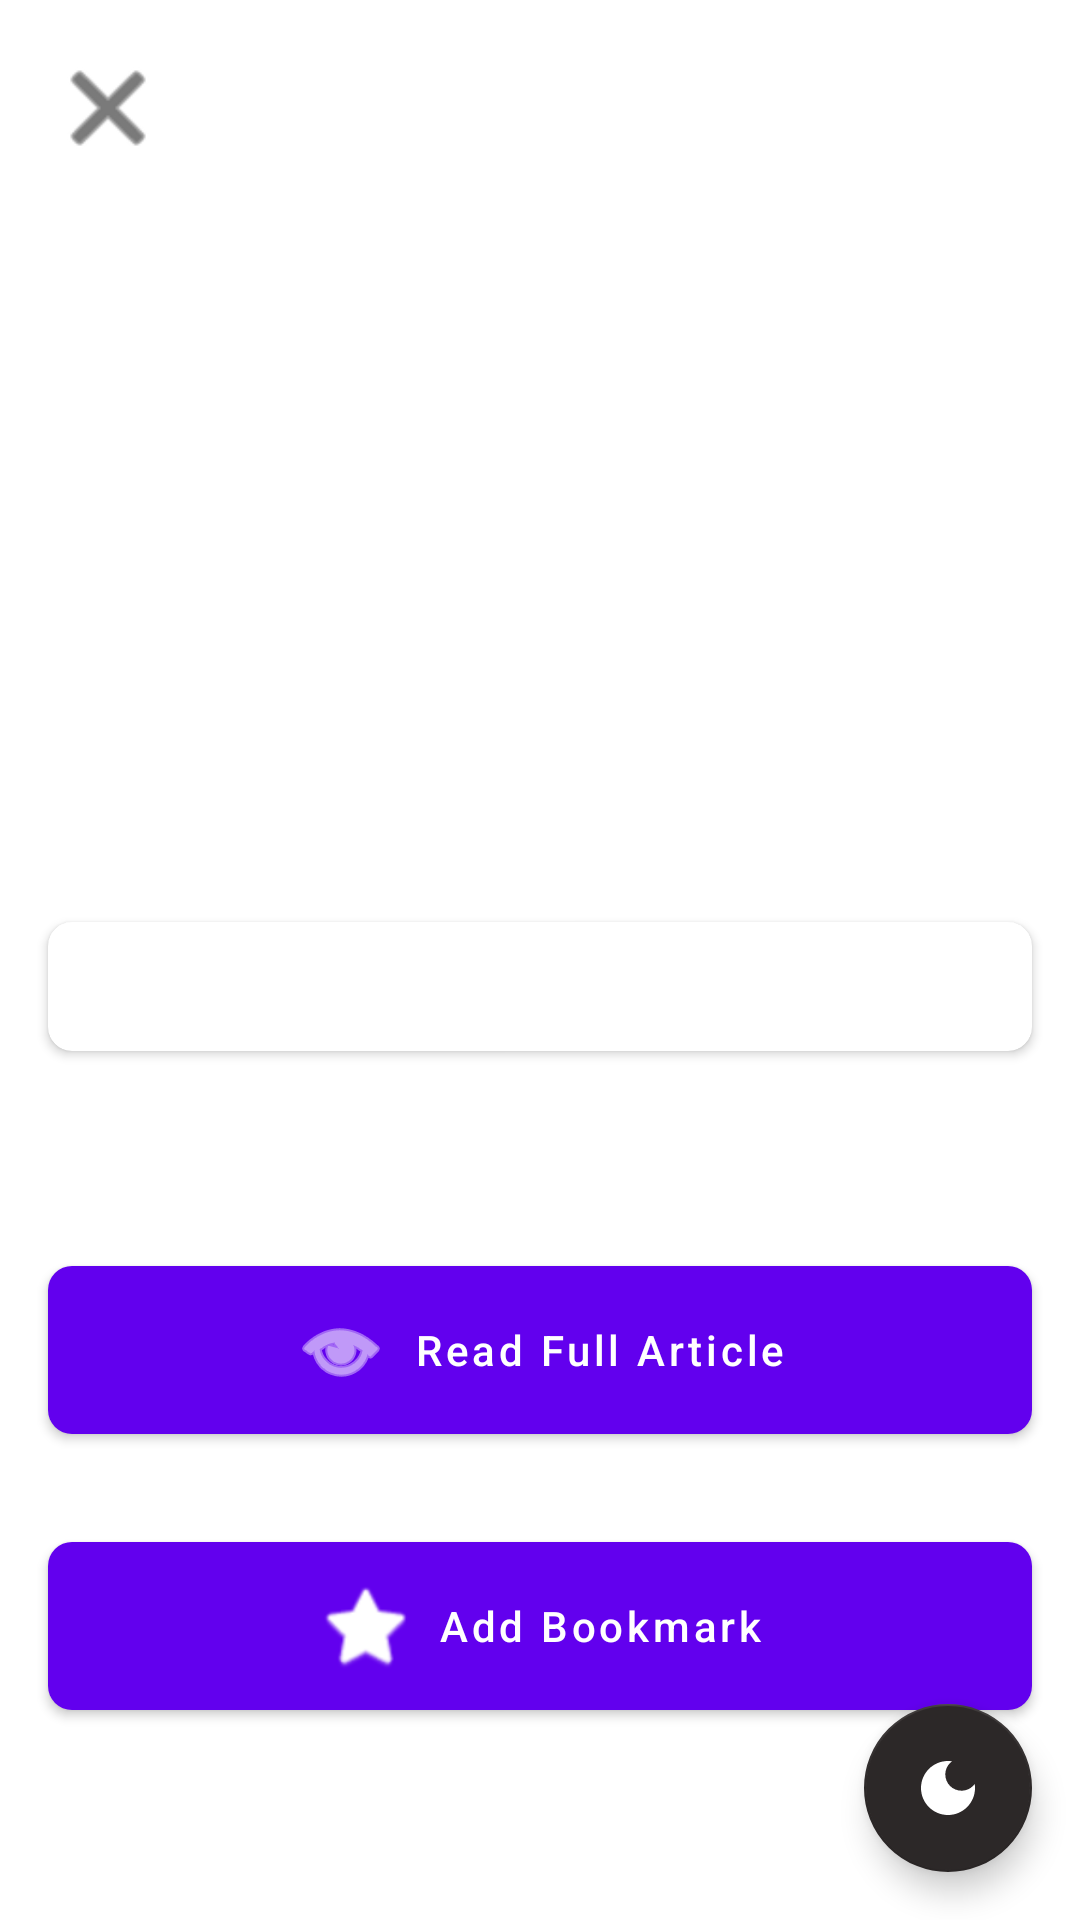

Where to tap for icons on this 1080 x 1920 app screen, as point (x, y):
Toggle dark mode: point (948, 1788)
